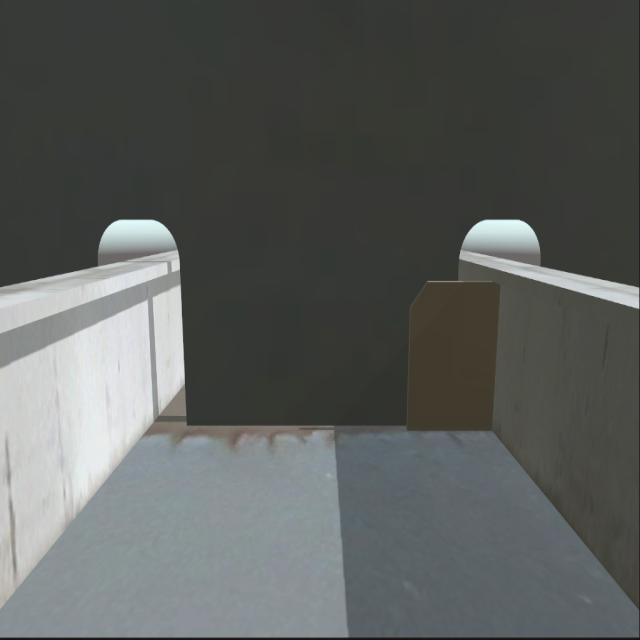fillet_yong_jeop_jang: (186, 415, 493, 434)
longi_yong_jeop_jang: (478, 289, 504, 432)
plate_CP03: (405, 282, 501, 425)
